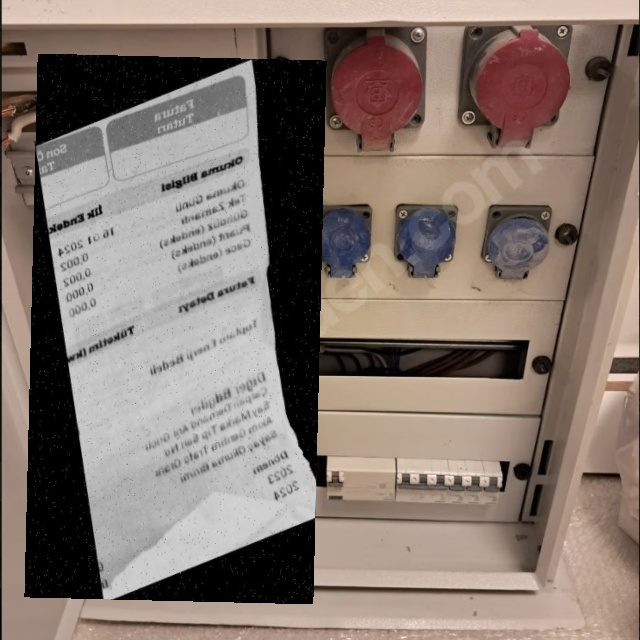electricity-bill: (24, 53, 327, 603)
